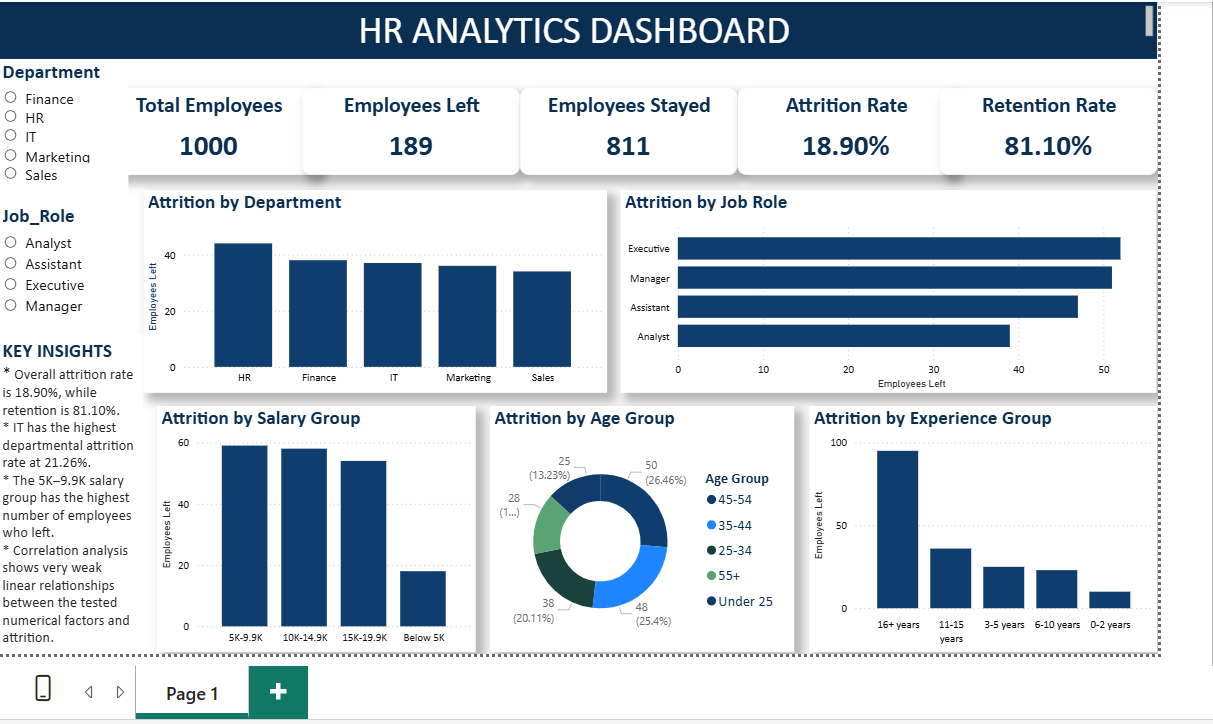

What the dashboard file says about the page in this screenshot:
{"tool":"powerbi","page":{"name":"HR Dashboard","canvas":[1280,720],"ordinal":0},"visuals":[{"type":"card","title":"Total Employees","fields":{"Values":["employee_attrition_dataset.Total Employees"]},"box":[112,96,240,96],"z":0},{"type":"textbox","box":[0,0,1280,64],"z":1000},{"type":"card","title":"Employees Left","fields":{"Values":["employee_attrition_dataset.Employees Left"]},"box":[336,96,240,96],"z":2000},{"type":"card","title":"Employees Stayed","fields":{"Values":["employee_attrition_dataset.Employees Stayed"]},"box":[576,96,240,96],"z":3000},{"type":"card","title":"Attrition Rate","fields":{"Values":["employee_attrition_dataset.Attrition Rate"]},"box":[816,96,240,96],"z":4000},{"type":"card","title":"Retention Rate","fields":{"Values":["employee_attrition_dataset.Retention Rate"]},"box":[1040,96,240,96],"z":5000},{"type":"clusteredColumnChart","title":" Attrition by Department","fields":{"Category":["employee_attrition_dataset.Department"],"Y":["employee_attrition_dataset.Employees Left"]},"box":[160,208,512,224],"z":6000},{"type":"clusteredBarChart","title":"Attrition by Job Role","fields":{"Category":["employee_attrition_dataset.Job_Role"],"Y":["employee_attrition_dataset.Employees Left"]},"box":[688,208,592,224],"z":7000},{"type":"listSlicer","fields":{"Values":["employee_attrition_dataset.Department"]},"box":[0,64,144,208],"z":8000},{"type":"listSlicer","fields":{"Values":["employee_attrition_dataset.Job_Role"]},"box":[0,224,144,224],"z":9000},{"type":"clusteredColumnChart","title":"Attrition by Salary Group","fields":{"Category":["employee_attrition_dataset.Salary Group"],"Y":["employee_attrition_dataset.Employees Left"]},"box":[176,448,352,272],"z":10000},{"type":"donutChart","title":" Attrition by Age Group","fields":{"Category":["employee_attrition_dataset.Age Group"],"Y":["employee_attrition_dataset.Employees Left"]},"box":[544,448,336,272],"z":11000},{"type":"clusteredColumnChart","title":"Attrition by Experience Group","fields":{"Category":["employee_attrition_dataset.Experience Group"],"Y":["employee_attrition_dataset.Employees Left"]},"box":[896,448,384,272],"z":12000},{"type":"textbox","box":[0,368,160,352],"z":13000}]}

Visuals, with their boxes on the page's 1280x720 design canvas (x1, y1, x2, y2). These are canvas units, not pixel positions in the 1213x724 screenshot, which may show the page scaled, cropped or inside an application window:
"Total Employees" card: [112,96,352,192]
textbox: [0,0,1280,64]
"Employees Left" card: [336,96,576,192]
"Employees Stayed" card: [576,96,816,192]
"Attrition Rate" card: [816,96,1056,192]
"Retention Rate" card: [1040,96,1280,192]
" Attrition by Department" clusteredColumnChart: [160,208,672,432]
"Attrition by Job Role" clusteredBarChart: [688,208,1280,432]
listSlicer - employee_attrition_dataset.Department: [0,64,144,272]
listSlicer - employee_attrition_dataset.Job_Role: [0,224,144,448]
"Attrition by Salary Group" clusteredColumnChart: [176,448,528,720]
" Attrition by Age Group" donutChart: [544,448,880,720]
"Attrition by Experience Group" clusteredColumnChart: [896,448,1280,720]
textbox: [0,368,160,720]
